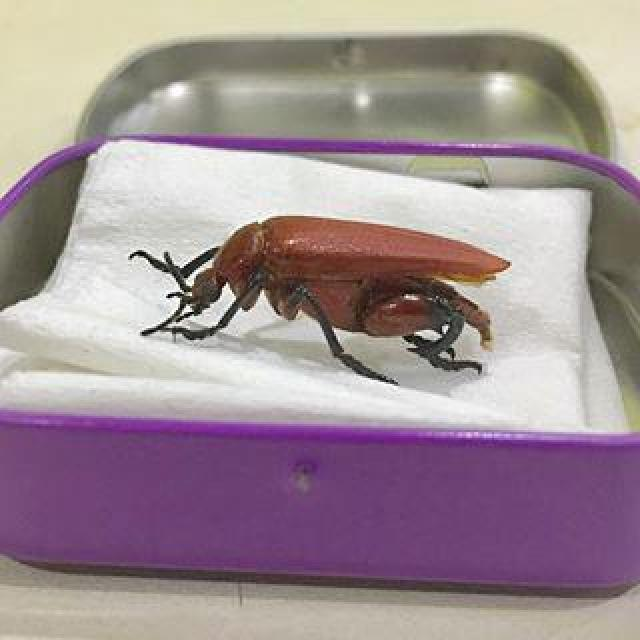BlisterBeetle-Adult-: (139, 204, 526, 400)
